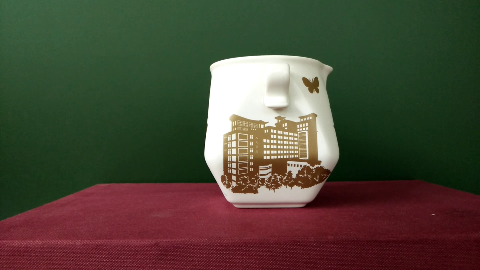butterfly: (291, 66, 332, 105)
lenwen: (234, 123, 316, 184)
